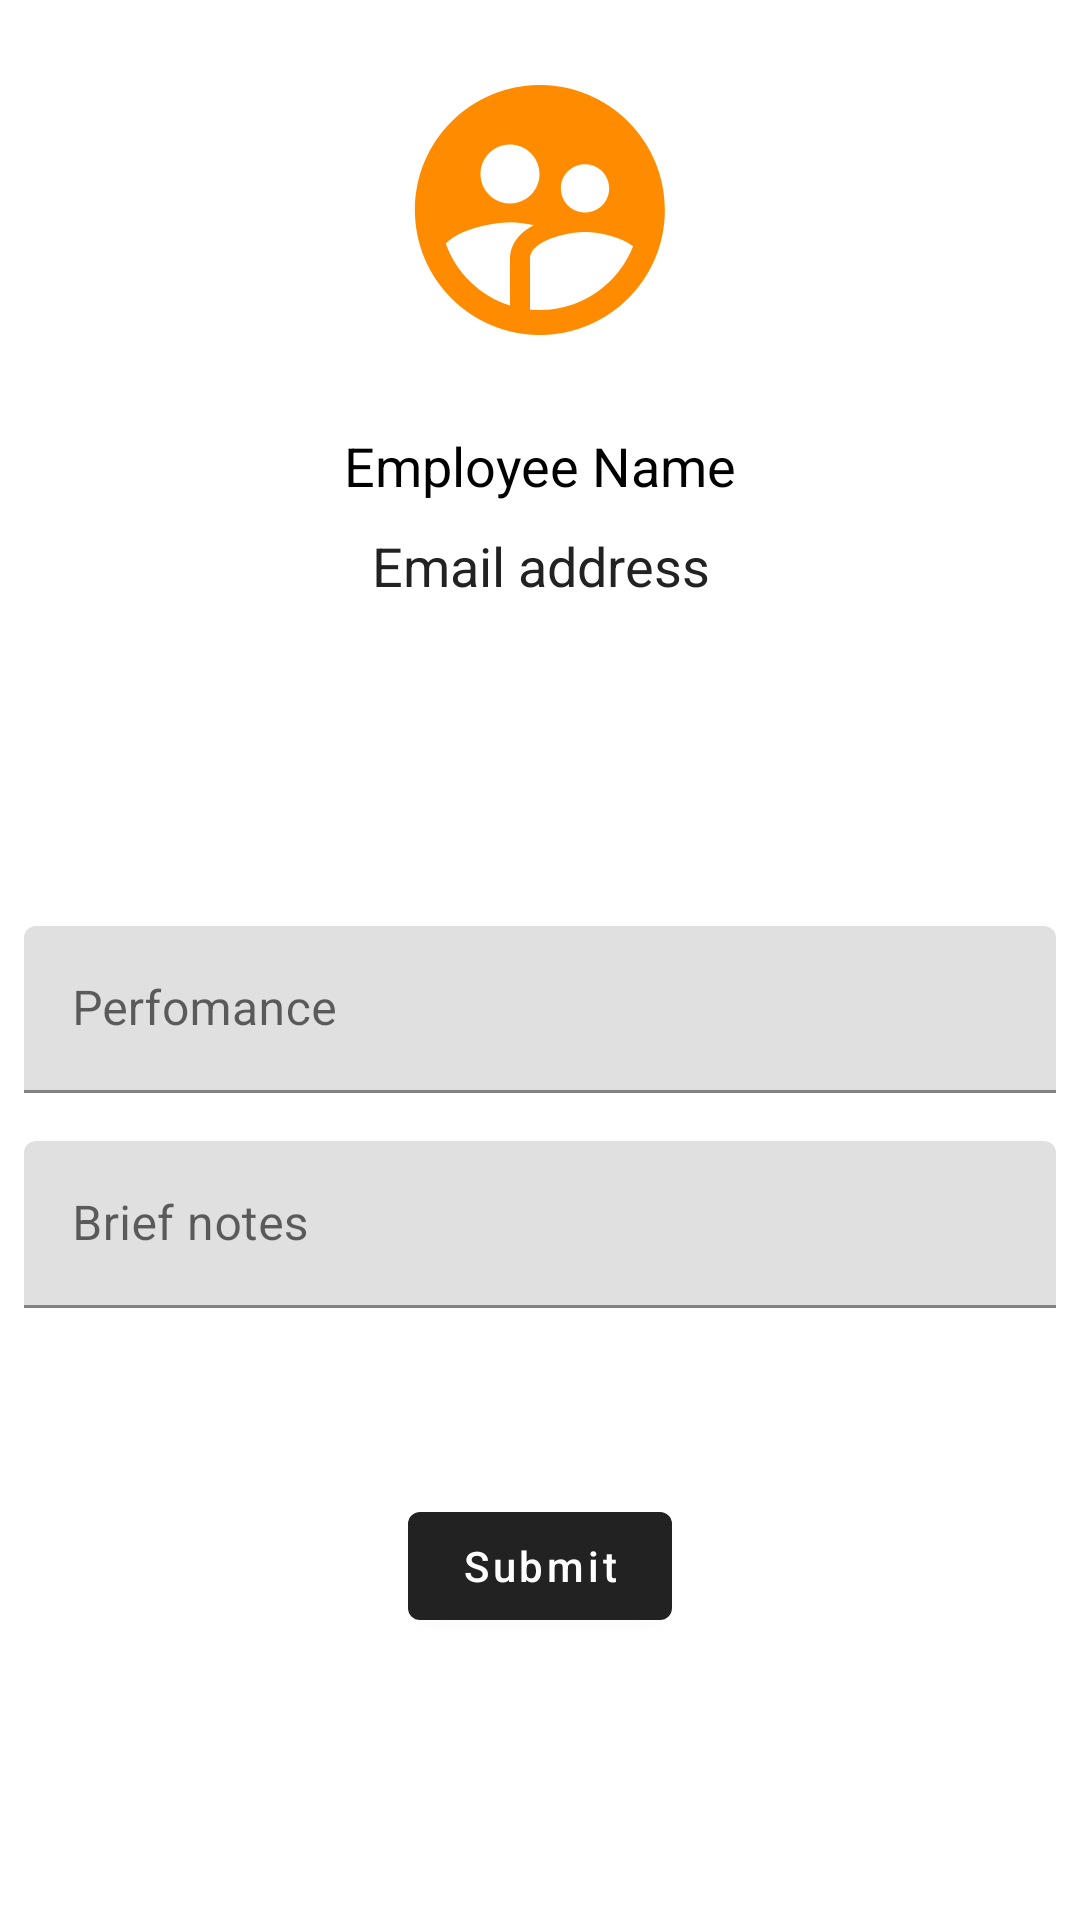

Screen size 1080×1920. Icon name, then its box in pixels as bbox=[x1, y1, x2, y2]:
emp supervised: bbox=[414, 85, 665, 335]
